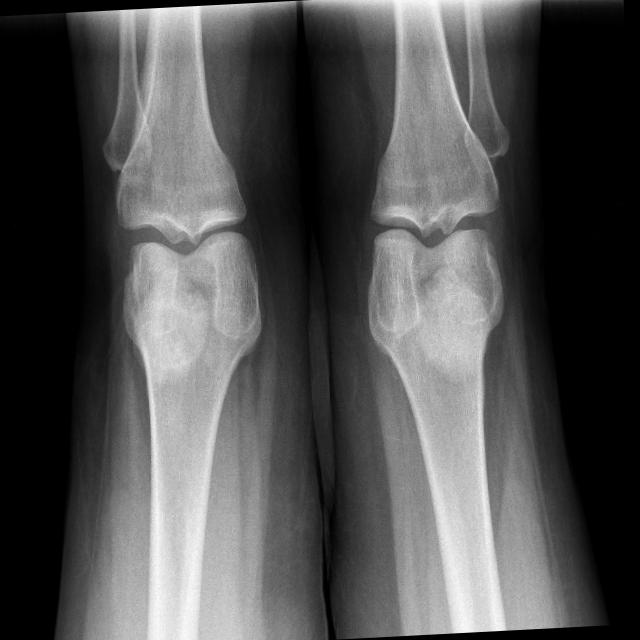Knee: (112, 174, 264, 338), (357, 160, 506, 324)
